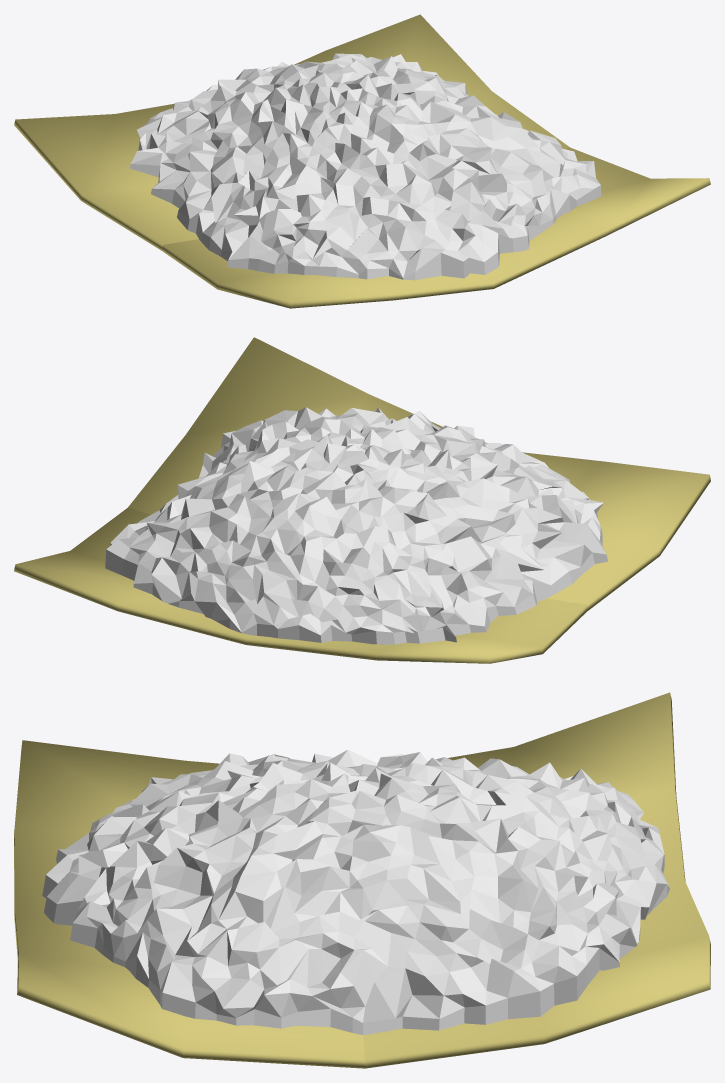
The model's file is dust 1.fbx.
3 views of the same model, one above another, from view 1: azimuth 30°, elevation 25°; view 2: azimuth 150°, elevation 25°; view 3: azimuth 270°, elevation 25° (orthographic). The views are drawn at different scales.
Parts seen in each view (by area): view 1: dust; view 2: dust; view 3: dust.
Part boxes in pixels (x1=…): dust: x1=14, y1=14, x2=710, y2=308; dust: x1=14, y1=337, x2=710, y2=663; dust: x1=14, y1=692, x2=710, y2=1068.
Bounding box in the file's own units: 153 × 42.06 × 148.
